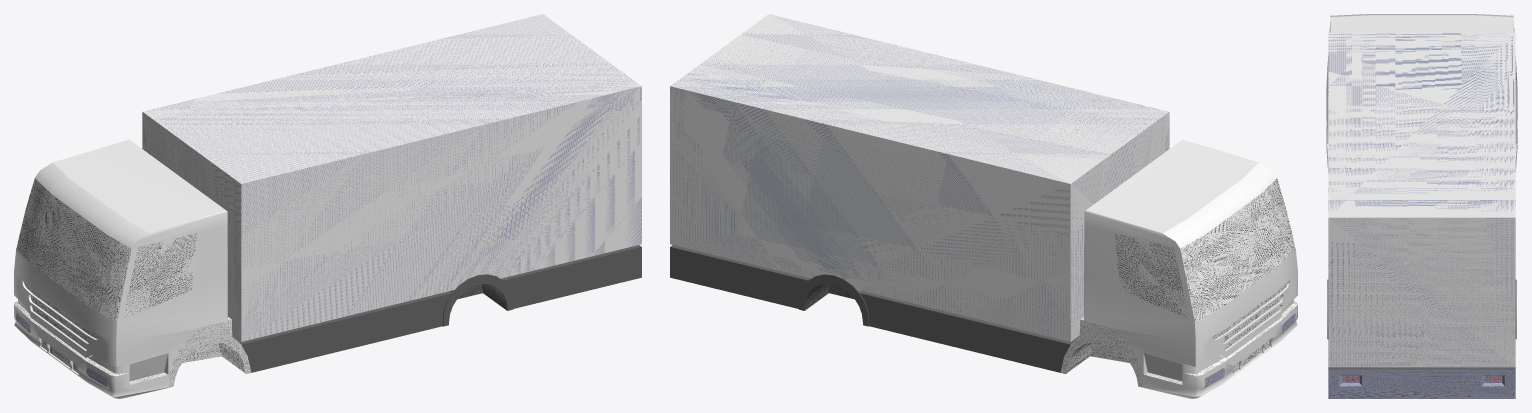
File: truck.fbx
The picture shows the model from 3 angles, left to right: view 1: azimuth 30°, elevation 25°; view 2: azimuth 150°, elevation 25°; view 3: azimuth 270°, elevation 25°; orthographic projection. The views are drawn at different scales.
Parts seen in each view (by area): view 1: Model; view 2: Model; view 3: Model.
Part boxes in pixels (bbox=[...]): Model: bbox=[14, 14, 641, 398]; Model: bbox=[670, 14, 1297, 398]; Model: bbox=[1326, 14, 1517, 398].
Size of the model in its own units: 7.33 by 2.51 by 2.4.
